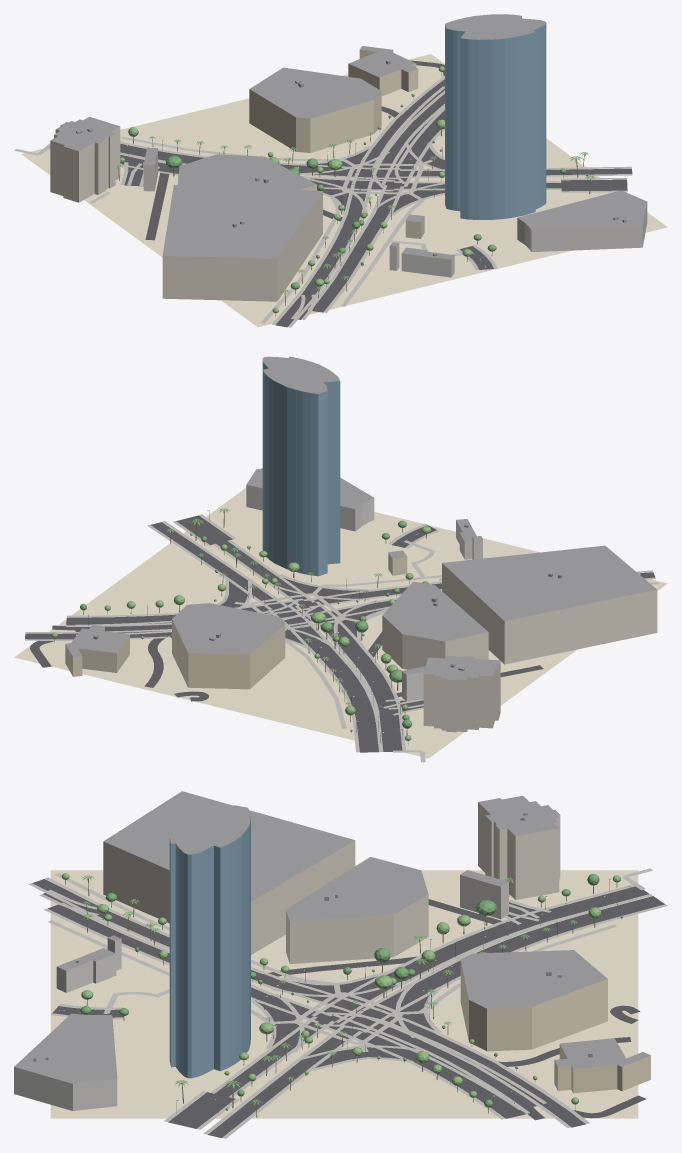
Rendered from tile_1_3.glb.
The picture shows the model from 3 angles, top to bottom: view 1: azimuth 30°, elevation 25°; view 2: azimuth 150°, elevation 25°; view 3: azimuth 270°, elevation 25°; orthographic projection. The views are drawn at different scales.
Parts seen in each view (by area): view 1: buildings_roof, nature_ground, buildings_glass_blue, roads_asphalt, buildings_concrete_warm, roads_sidewalk, buildings_sandstone, buildings_concrete_light, nature_foliage_b, nature_foliage_a, nature_palm_leaf, nature_trunk; view 2: nature_ground, buildings_roof, buildings_concrete_warm, buildings_glass_blue, roads_asphalt, roads_sidewalk, buildings_sandstone, buildings_concrete_light, nature_foliage_b, nature_foliage_a; view 3: nature_ground, buildings_roof, roads_asphalt, roads_sidewalk, buildings_concrete_warm, buildings_glass_blue, buildings_sandstone, buildings_concrete_light, nature_foliage_b, nature_foliage_a, nature_palm_leaf, nature_trunk.
Boxes of the visible parts, x1,y1,x2,y2 form: buildings_roof: (50,14,646,259); nature_ground: (21,54,667,327); buildings_glass_blue: (445,16,546,219); roads_asphalt: (50,60,632,327); buildings_concrete_warm: (50,125,322,301); roads_sidewalk: (14,76,632,327); buildings_sandstone: (249,50,424,238); buildings_concrete_light: (143,149,647,277); nature_foliage_b: (120,66,472,313); nature_foliage_a: (165,115,588,289); nature_palm_leaf: (116,132,595,293); nature_trunk: (118,72,590,316); nature_ground: (14,488,667,758); buildings_roof: (65,356,656,680); buildings_concrete_warm: (382,563,657,732); buildings_glass_blue: (262,361,340,576); roads_asphalt: (25,515,655,752); roads_sidewalk: (25,514,658,762); buildings_sandstone: (65,553,407,689); buildings_concrete_light: (246,485,482,701); nature_foliage_b: (51,526,640,740); nature_foliage_a: (80,520,428,728); nature_ground: (50,870,638,1118); buildings_roof: (14,791,650,1083); roads_asphalt: (32,879,664,1137); roads_sidewalk: (28,868,667,1138); buildings_concrete_warm: (103,802,560,963); buildings_glass_blue: (169,816,250,1078); buildings_sandstone: (460,960,650,1093); buildings_concrete_light: (14,875,508,1110); nature_foliage_b: (61,873,623,1104); nature_foliage_a: (80,874,599,1110); nature_palm_leaf: (82,875,577,1104); nature_trunk: (65,878,621,1117).
Size of the model in its own units: 297 by 105 by 278.
